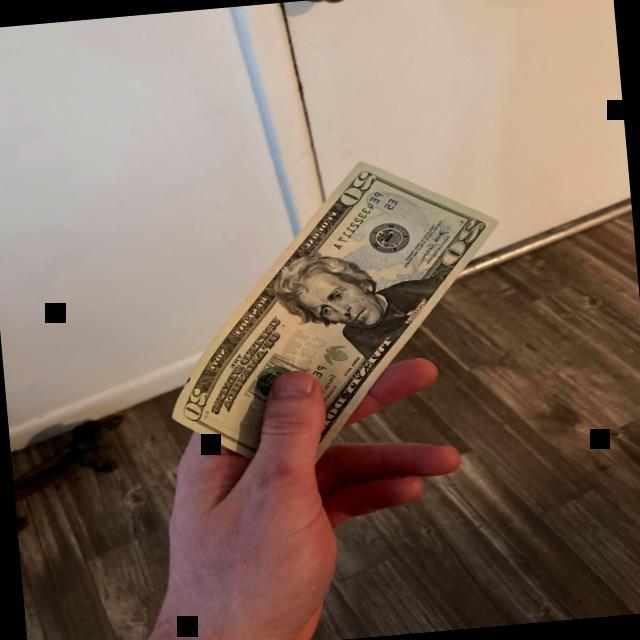twenty: (171, 160, 497, 486)
